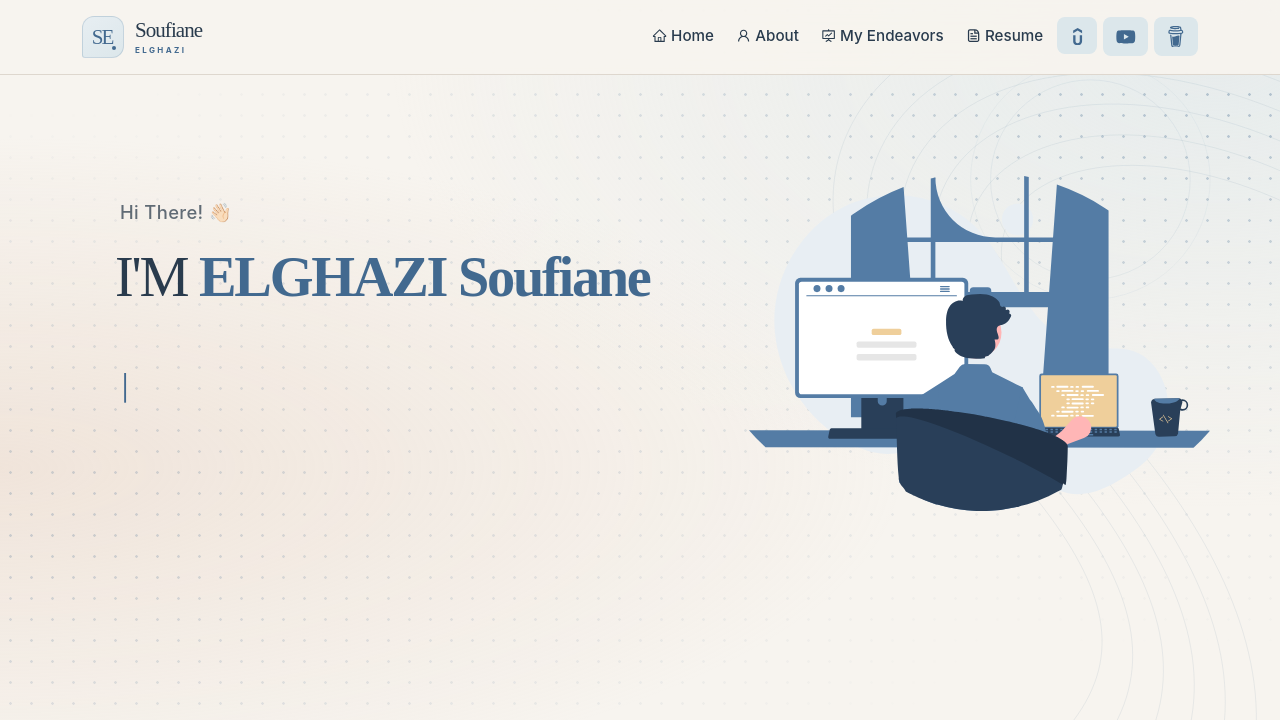
it: portfolio navigation › navigates to the book and preserves the direct PDF download
The image size is (1280, 720).
Click the link "My Endeavors" at (882, 36), box [821,26,944,45]
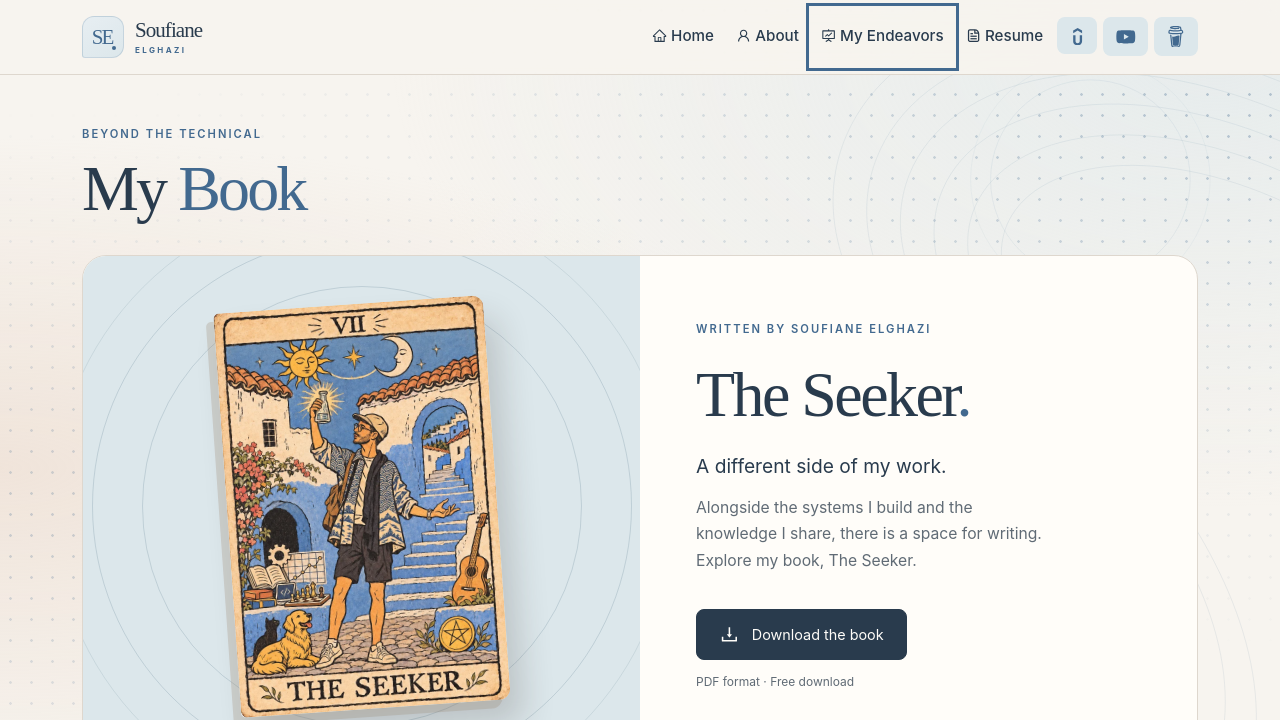
Expected: the heading "My Book" is shown, [82,153,306,224]
